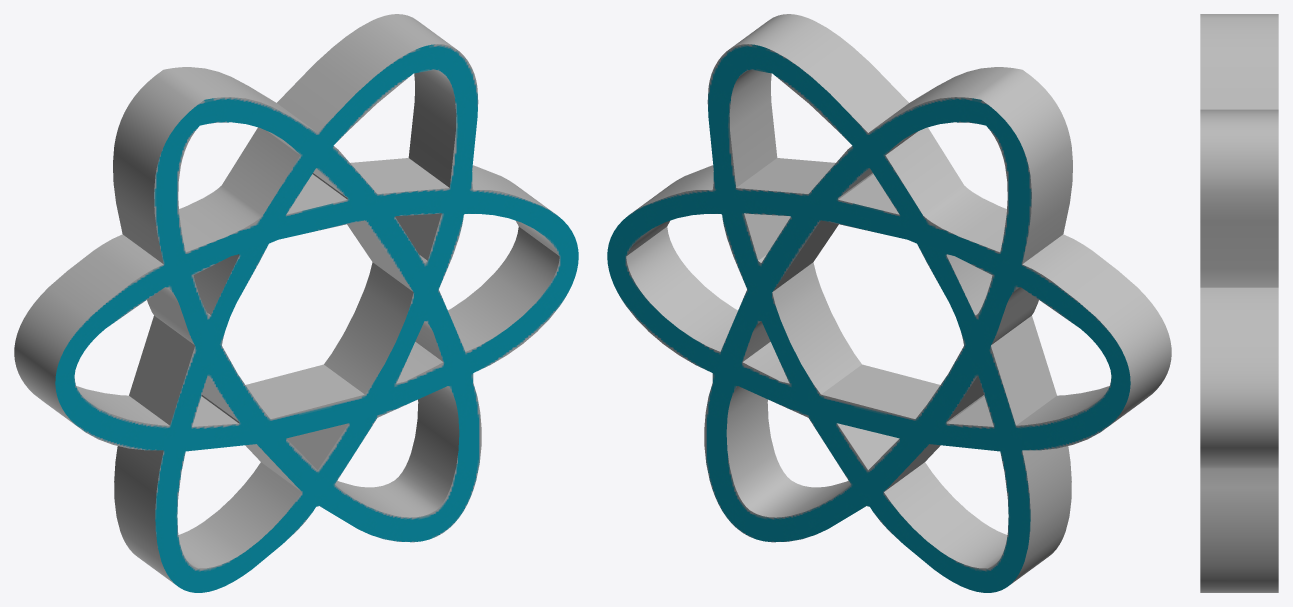
The model's file is React.gltf.
3 renders of one model, left to right at view 1: azimuth 30°, elevation 25°; view 2: azimuth 150°, elevation 25°; view 3: azimuth 270°, elevation 25°, orthographic. The views are drawn at different scales.
Visible parts, largest first — view 1: react-512; view 2: react-512; view 3: react-512.
Boxes of the visible parts, x1,y1,x2,y2 form: react-512: (14, 14, 578, 592); react-512: (607, 14, 1171, 592); react-512: (1200, 14, 1278, 592).
Bounding box in the file's own units: 0.3329 × 0.3007 × 0.0453.
3 materials, 3 textured.
